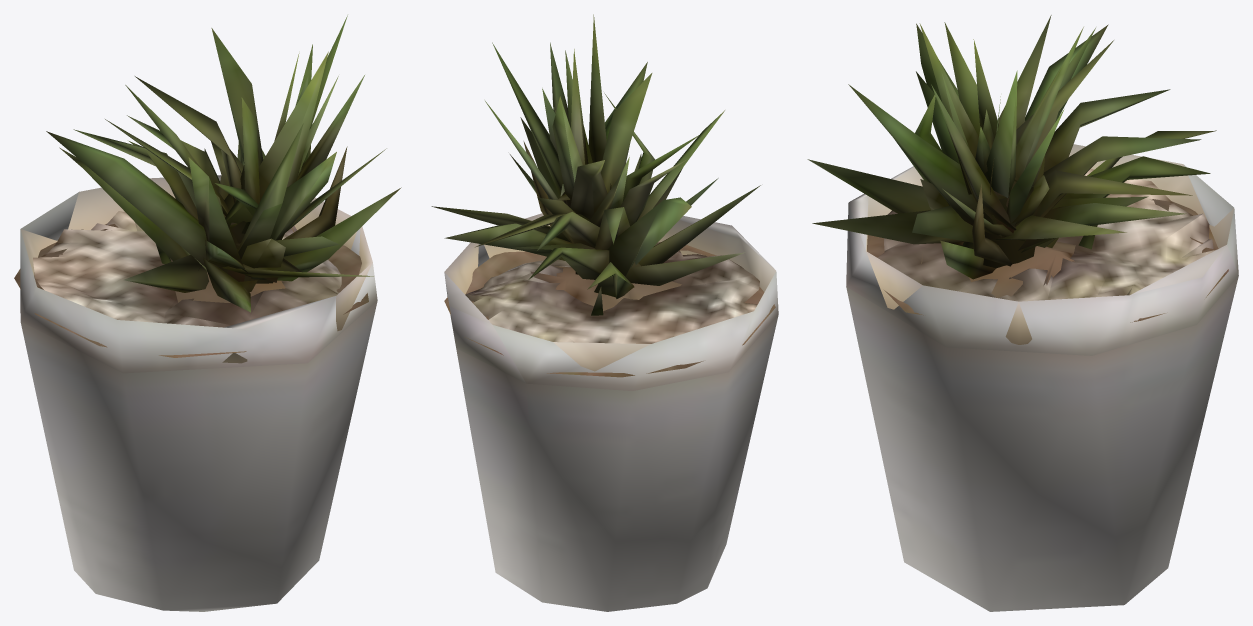
File: plant_aloe_pot_lod1.glb
The picture shows the model from 3 angles, left to right: view 1: azimuth 30°, elevation 25°; view 2: azimuth 150°, elevation 25°; view 3: azimuth 270°, elevation 25°; orthographic projection. The views are drawn at different scales.
Parts seen in each view (by area): view 1: plant_aloe_pot.001; view 2: plant_aloe_pot.001; view 3: plant_aloe_pot.001.
Boxes of the visible parts, left/top/right/bottom form: plant_aloe_pot.001: left=14, top=15, right=401, bottom=611; plant_aloe_pot.001: left=431, top=14, right=778, bottom=611; plant_aloe_pot.001: left=807, top=15, right=1238, bottom=611.
Bounding box in the file's own units: 0.4885 × 0.7983 × 0.5405.
1 material, 1 textured.
